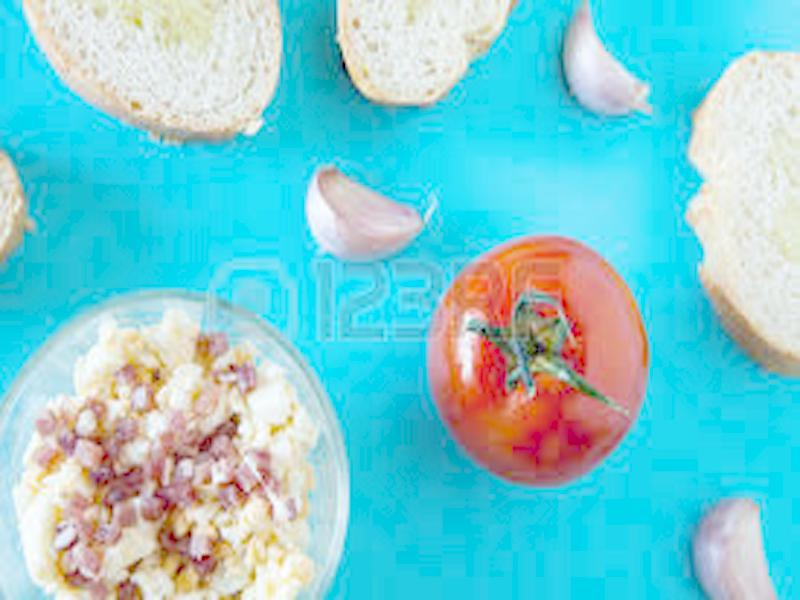Tomato: (436, 233, 649, 485)
